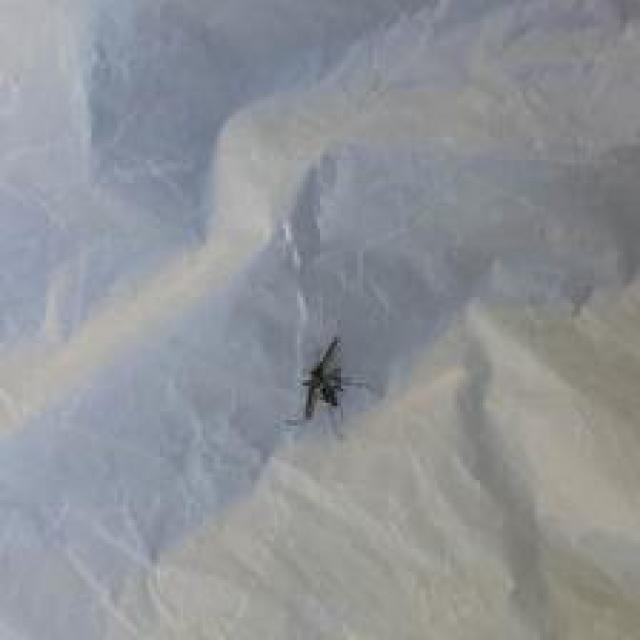Aedes albopictus: (288, 334, 372, 429)
